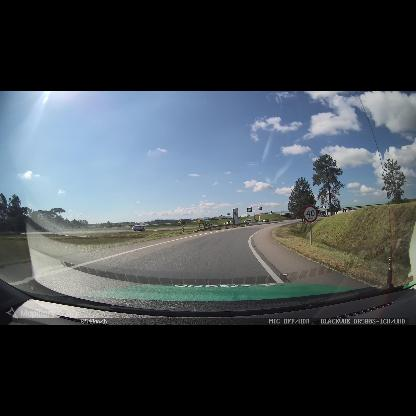O-MP: (182, 225, 184, 232)
R-19: (303, 206, 318, 222)
